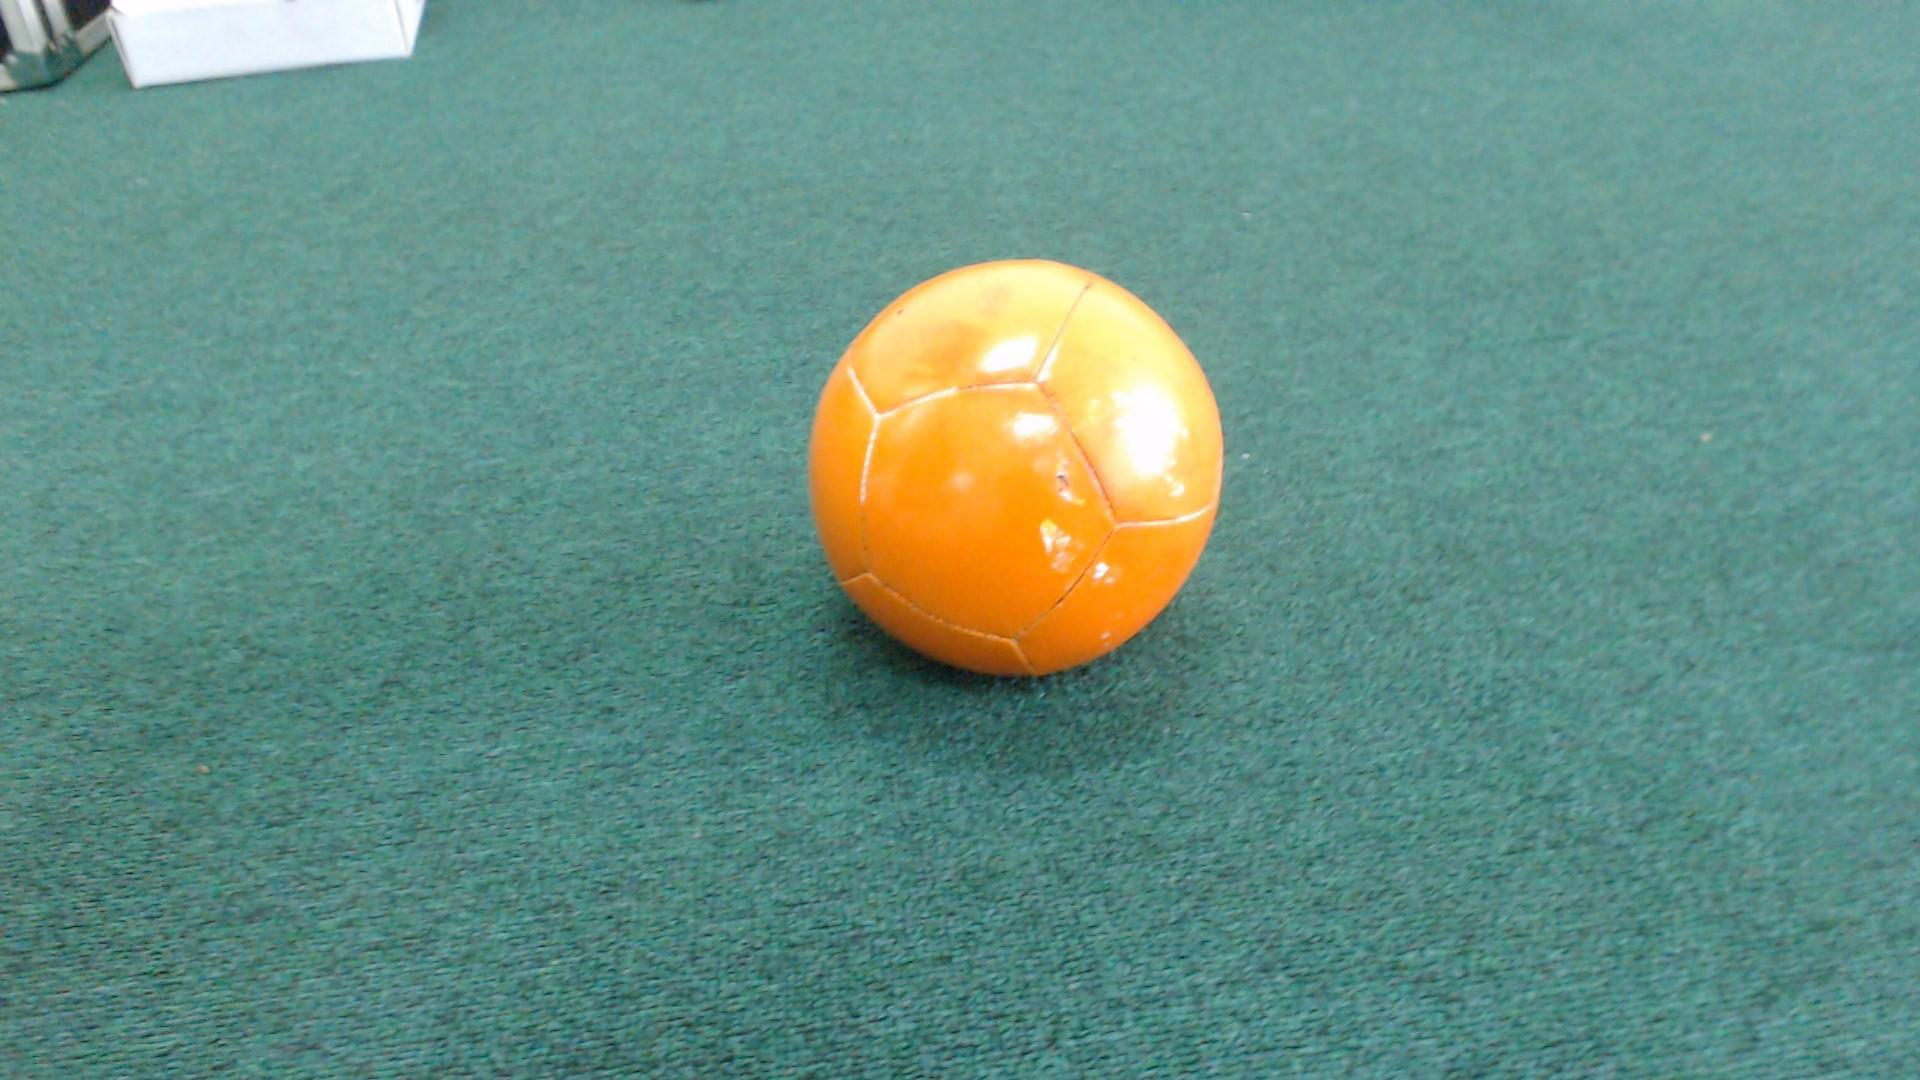bola: (781, 236, 1247, 699)
